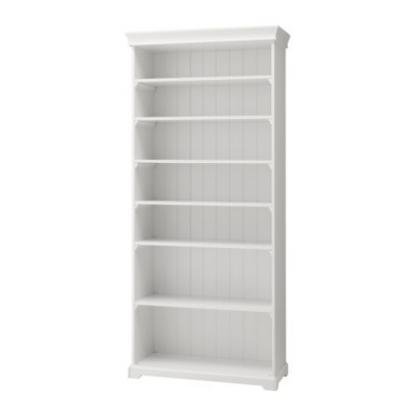Cabinet: (121, 23, 295, 394)
